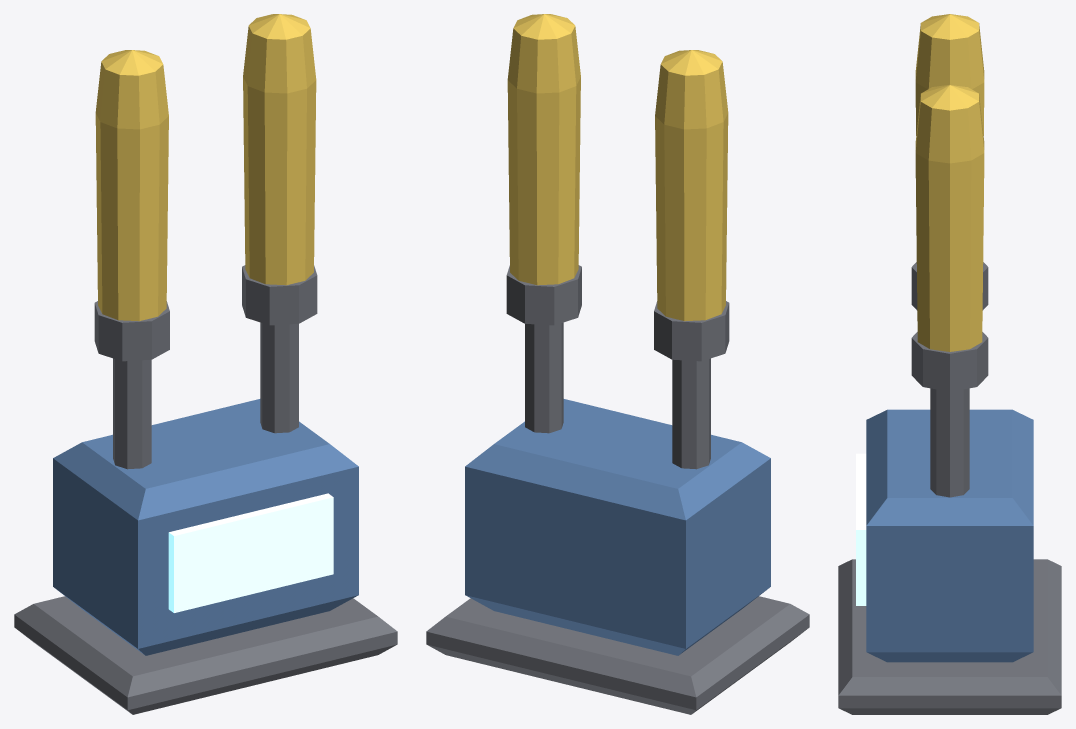
The model's file is wand-2.glb.
3 renders of one model, left to right at view 1: azimuth 30°, elevation 25°; view 2: azimuth 150°, elevation 25°; view 3: azimuth 270°, elevation 25°, orthographic.
Visible parts, largest first — view 1: marshalling-wand-pair; view 2: marshalling-wand-pair; view 3: marshalling-wand-pair.
Boxes of the visible parts, x1,y1,x2,y2 form: marshalling-wand-pair: (14, 14, 397, 714); marshalling-wand-pair: (426, 14, 809, 714); marshalling-wand-pair: (838, 14, 1061, 714).
Size of the model in its own units: 0.44 by 0.96 by 0.32.
